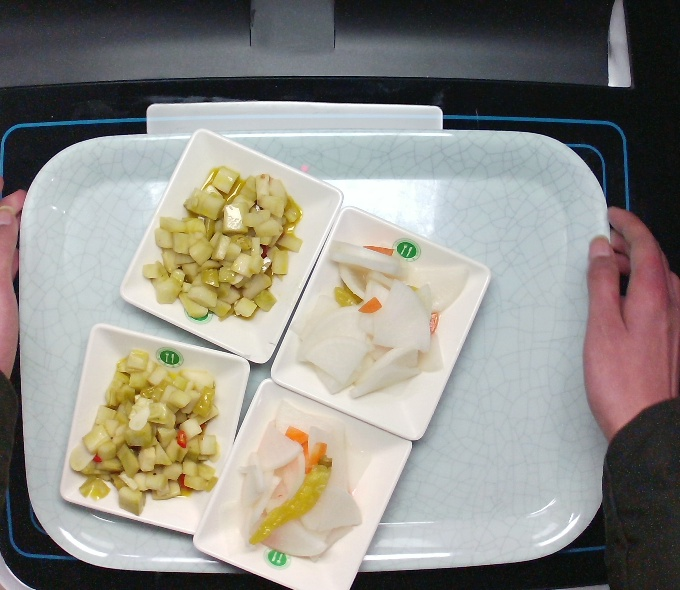wcq-LuLuoBo: (285, 230, 470, 403), (240, 405, 368, 564)
wcq-TangCuOu: (68, 342, 230, 534), (138, 166, 306, 333)
